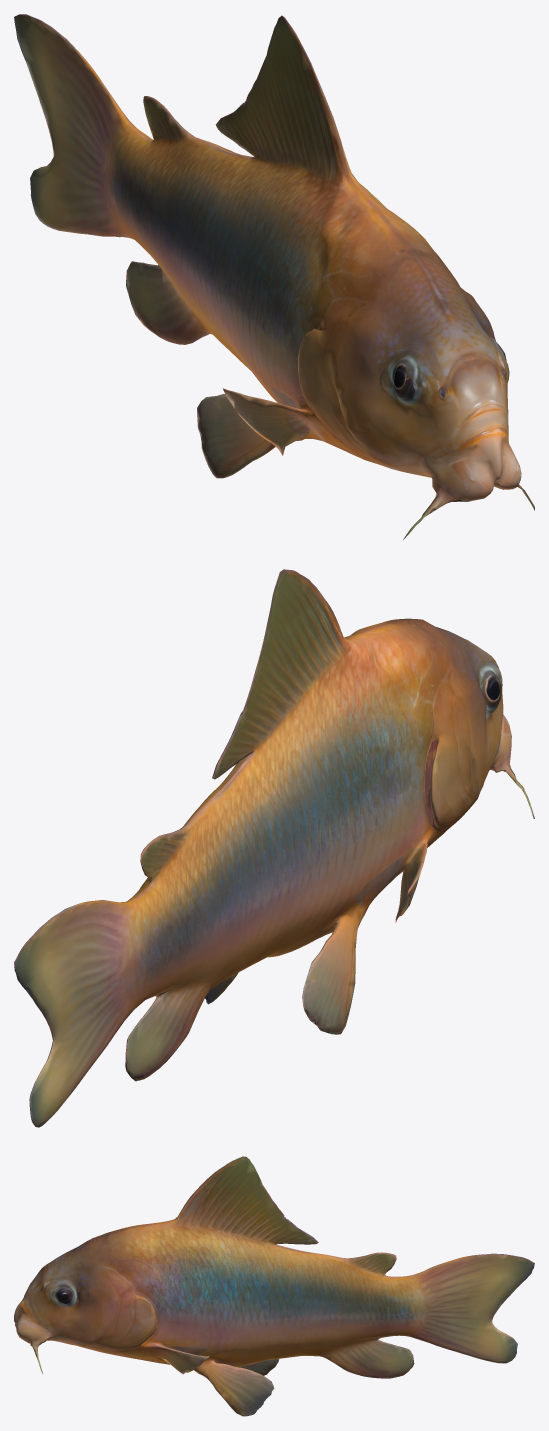
File: Corydoras_aenus_0604063424_texture.glb
3 views of the same model, one above another, from view 1: azimuth 30°, elevation 25°; view 2: azimuth 150°, elevation 25°; view 3: azimuth 270°, elevation 25° (orthographic). The views are drawn at different scales.
Bounding box in the file's own units: 0.4518 × 1.01 × 1.97.
Materials: 1 (1 with a texture image).
